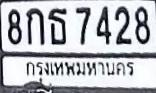2: (114, 5, 130, 44)
4: (95, 5, 110, 44)
7: (75, 6, 90, 44)
8: (134, 6, 149, 43), (7, 9, 21, 44)
A01: (26, 7, 44, 44)
A24: (47, 7, 66, 44)
BKK: (19, 56, 137, 80)
